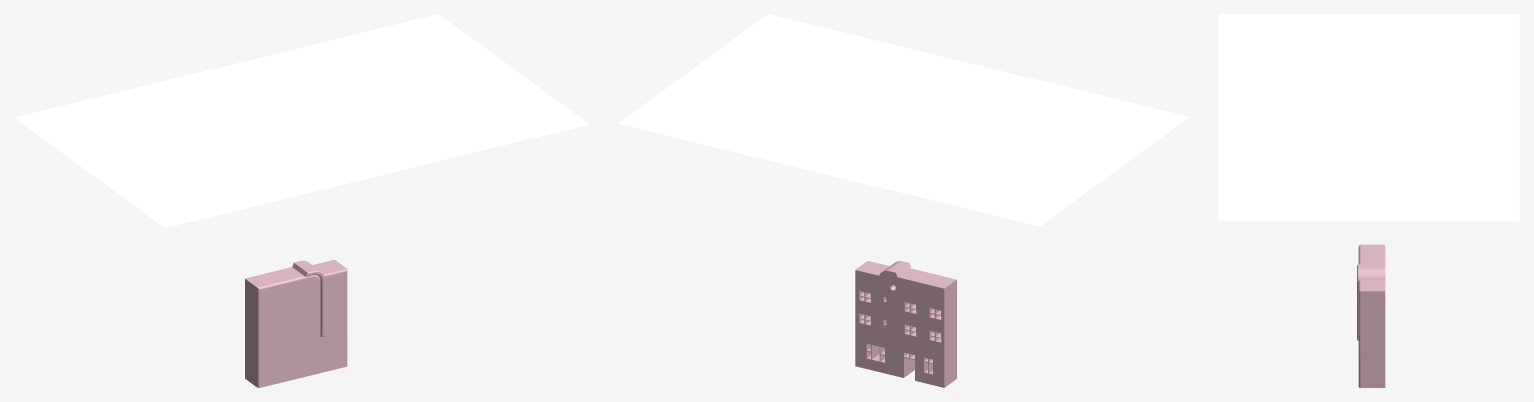
File: oldtest.glb
The picture shows the model from 3 angles, left to right: view 1: azimuth 30°, elevation 25°; view 2: azimuth 150°, elevation 25°; view 3: azimuth 270°, elevation 25°; orthographic projection.
Visible parts, largest first — view 1: Plane, Cresent Building - NFT 2 v1.004; view 2: Plane, Cresent Building - NFT 2 v1.004; view 3: Plane, Cresent Building - NFT 2 v1.004.
Boxes of the visible parts, x1,y1,x2,y2 form: Plane: [14, 14, 589, 227]; Cresent Building - NFT 2 v1.004: [245, 259, 347, 387]; Plane: [618, 14, 1189, 226]; Cresent Building - NFT 2 v1.004: [855, 261, 956, 387]; Plane: [1218, 14, 1519, 220]; Cresent Building - NFT 2 v1.004: [1357, 244, 1385, 387].
Size of the model in its own units: 8.95 by 5.07 by 5.51.
